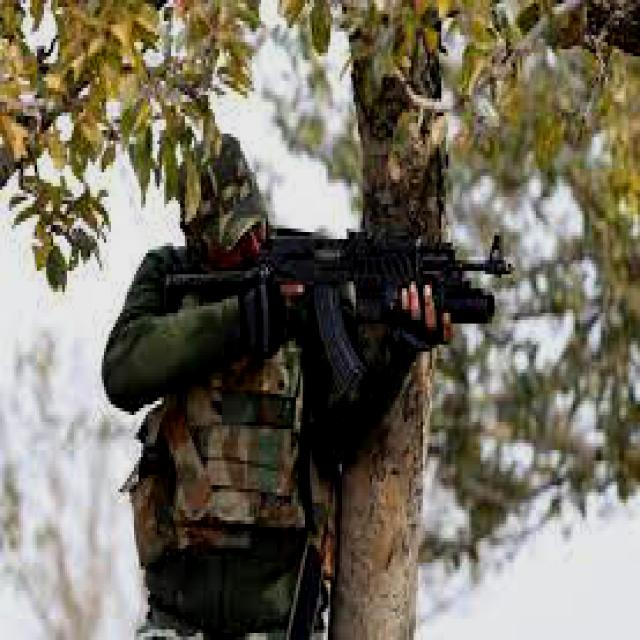long weapon: (264, 206, 525, 394)
